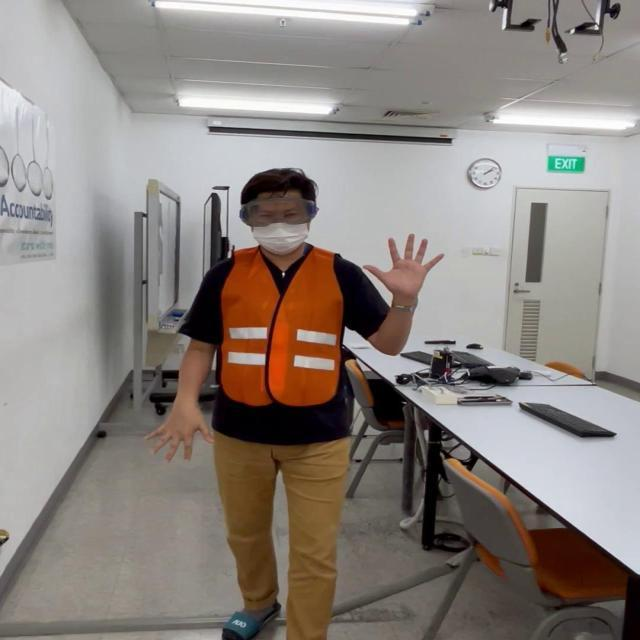bare_hand: (361, 231, 444, 296), (140, 402, 216, 464)
